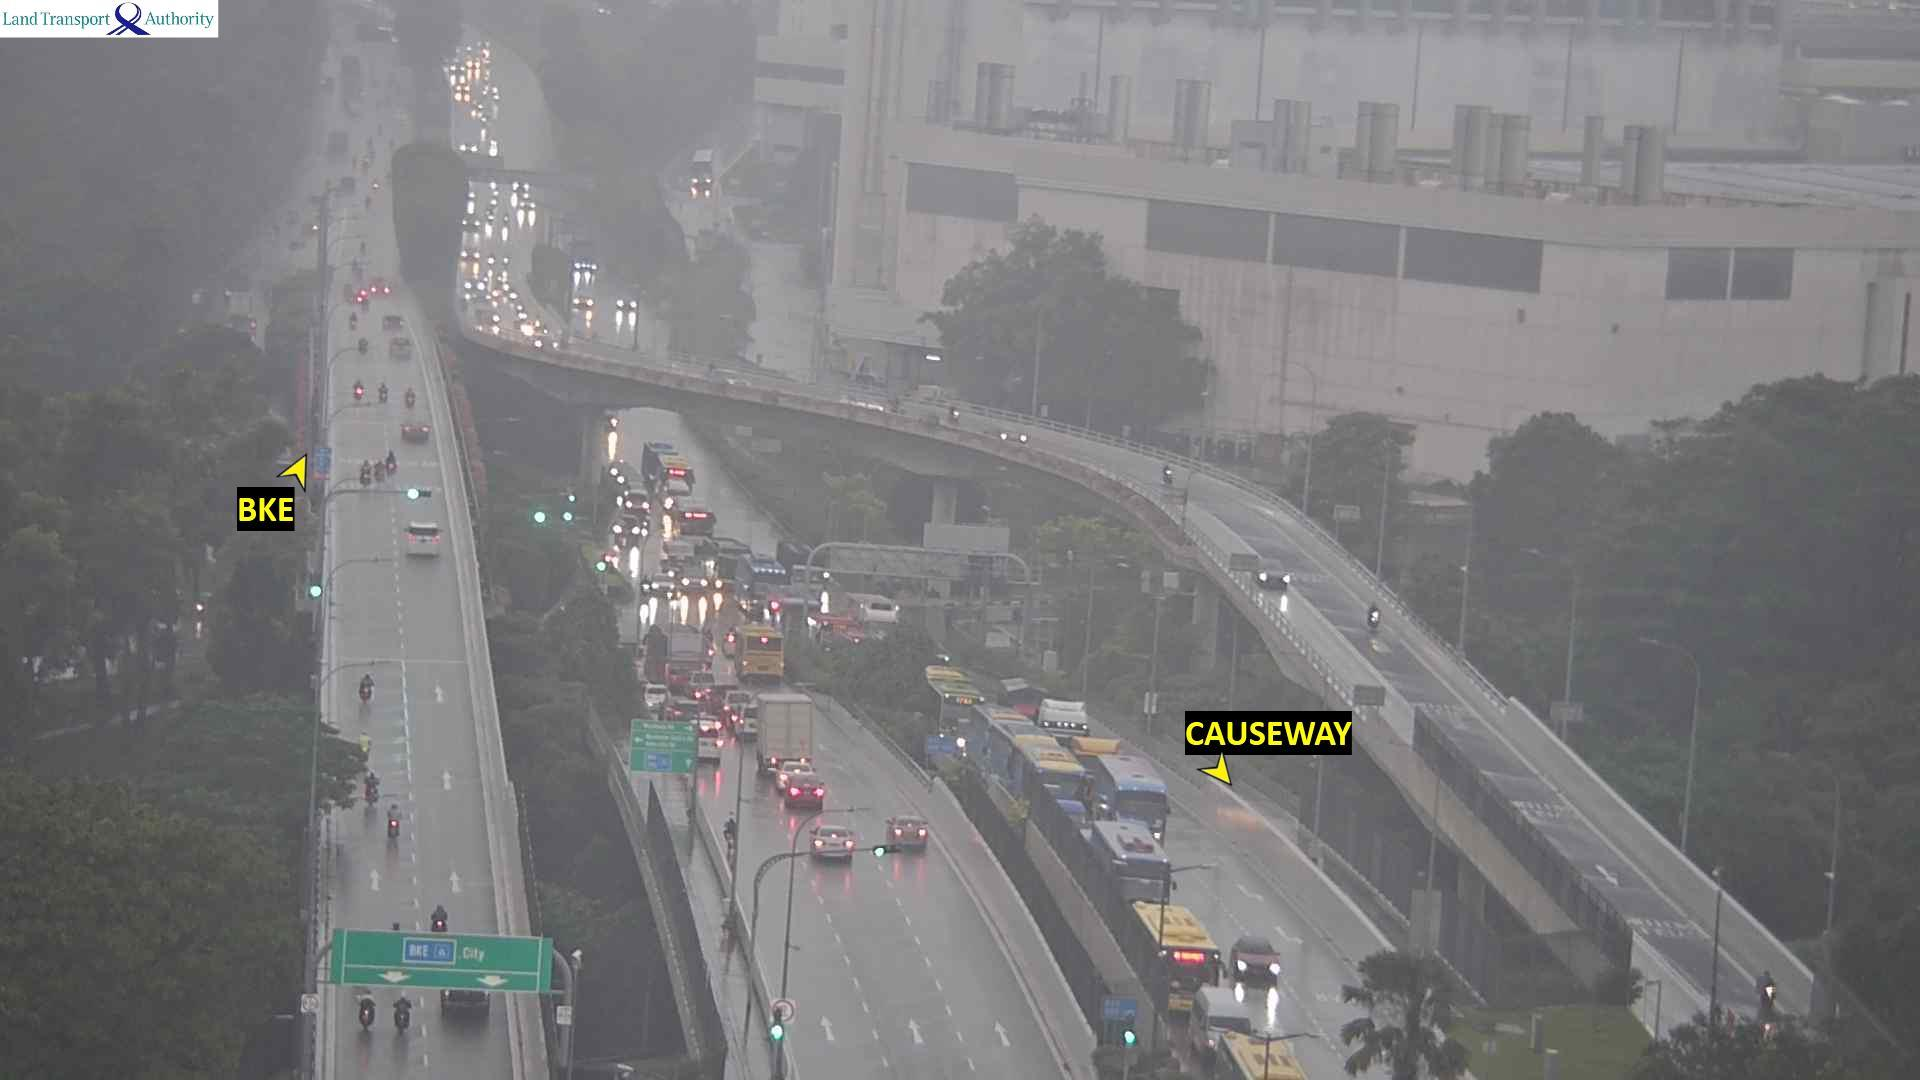vehicle-causeway-johor: (1132, 902, 1217, 999), (1090, 822, 1168, 903), (926, 669, 982, 733), (1191, 992, 1248, 1052), (1218, 1037, 1297, 1080), (1021, 748, 1090, 794), (1091, 782, 1176, 818), (640, 442, 688, 495), (1235, 937, 1279, 981), (1034, 703, 1095, 733), (667, 499, 712, 530), (1252, 555, 1285, 589), (1759, 966, 1776, 1007), (984, 428, 1027, 442), (462, 277, 489, 299), (478, 311, 501, 333), (1366, 601, 1380, 624), (945, 408, 960, 428), (1161, 463, 1175, 482), (461, 247, 480, 261)
vehicle-causeway-singapore: (645, 623, 709, 686), (757, 694, 810, 768), (737, 624, 783, 676), (880, 818, 929, 852), (405, 524, 449, 555), (441, 990, 482, 1022), (810, 829, 860, 855), (787, 782, 831, 809), (697, 721, 721, 759), (687, 671, 712, 698), (737, 702, 757, 734), (355, 996, 374, 1029), (389, 335, 411, 363), (402, 991, 420, 1019), (431, 899, 448, 928), (355, 674, 373, 701), (391, 814, 407, 842), (367, 772, 378, 805), (408, 422, 426, 442), (359, 728, 370, 758), (371, 277, 389, 295), (385, 314, 402, 332), (388, 454, 401, 473), (376, 382, 387, 402), (360, 461, 369, 485), (375, 460, 385, 481), (407, 390, 418, 409), (352, 380, 362, 399)
